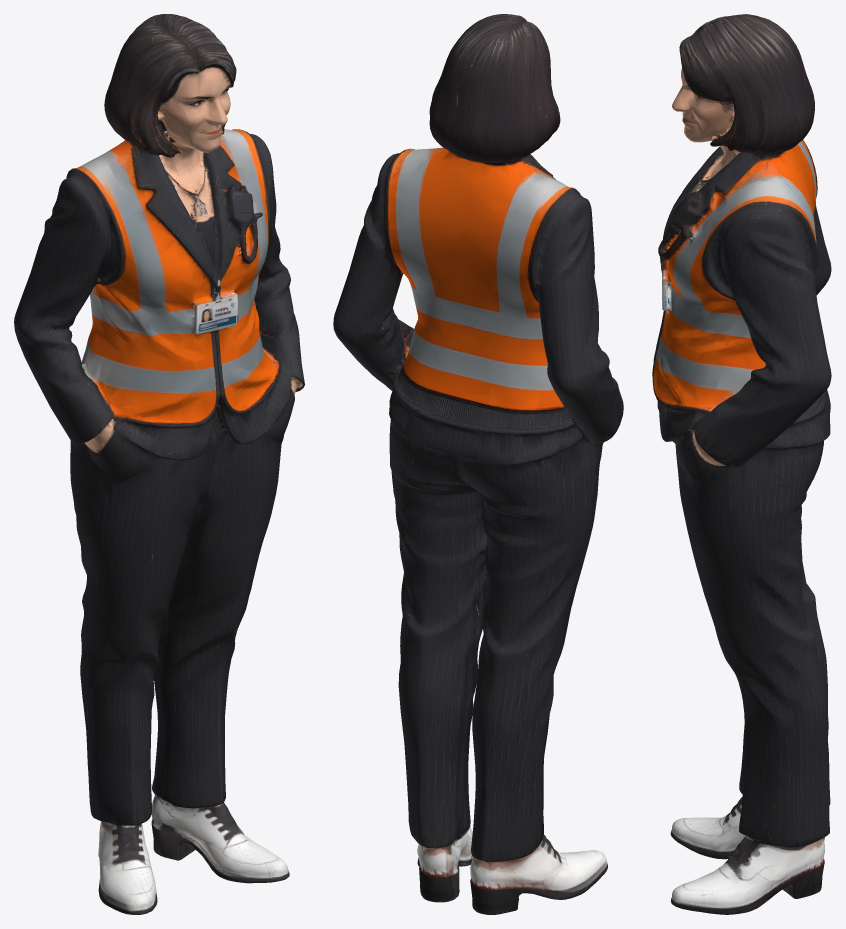
The model's file is nadia.glb.
3 views of the same model, side by side, from view 1: azimuth 30°, elevation 25°; view 2: azimuth 150°, elevation 25°; view 3: azimuth 270°, elevation 25° (orthographic).
Visible parts, largest first — view 1: Mesh_0; view 2: Mesh_0; view 3: Mesh_0.
Boxes of the visible parts, x1,y1,x2,y2 form: Mesh_0: (14,14,304,914); Mesh_0: (333,14,623,914); Mesh_0: (652,14,831,914).
Bounding box in the file's own units: 0.6066 × 1.91 × 0.3623.
Materials: 1 (1 with a texture image).
